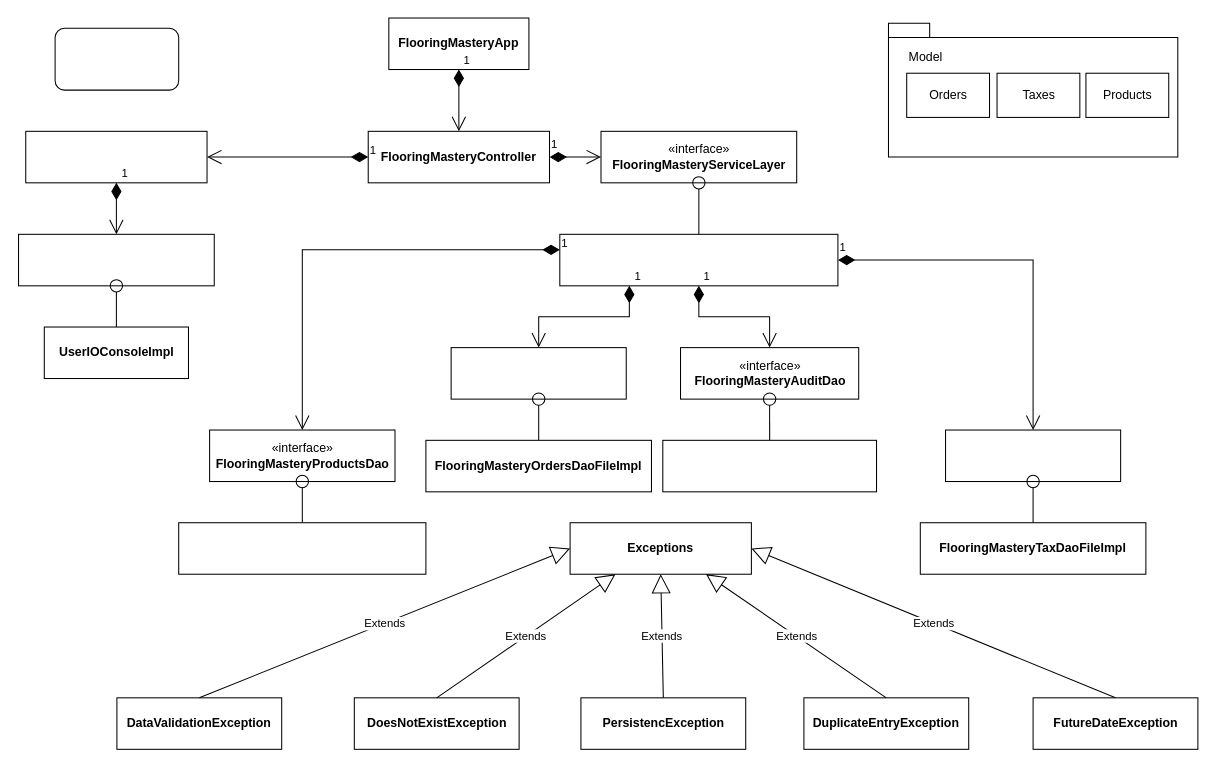
Image size: 1215x767. Some labels were removed from this diagram. Here are the shapes that lost their labels. From the top down, the box of each, then its label:
(54, 27, 179, 90): Mar 10, 2022
(887, 22, 1178, 157): DTO
(25, 130, 207, 183): FlooringMasteryView
(18, 233, 214, 286): «interface» UserIO
(559, 233, 838, 286): FlooringMasteryServiceLayerImpl
(450, 347, 626, 399): «interface» FlooringMasteryOrdersDao
(662, 439, 877, 492): FlooringMasteryAuditDaoFileImpl
(945, 429, 1121, 482): «interface» FlooringMasteryTaxDao
(178, 522, 426, 574): FlooringMasteryProductsDaoFileImpl
